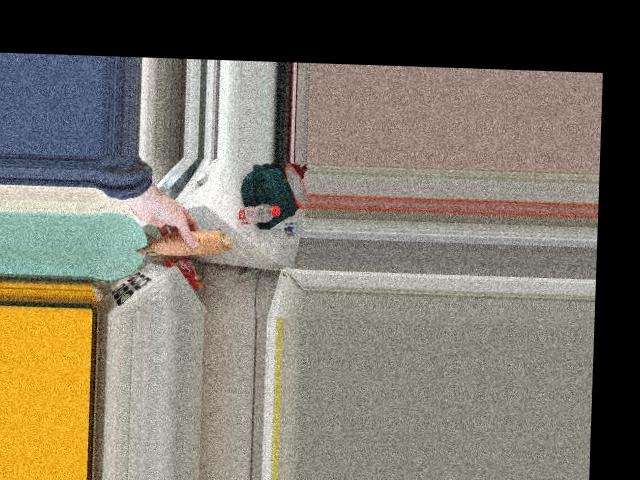sweet_potato: (136, 227, 229, 265)
